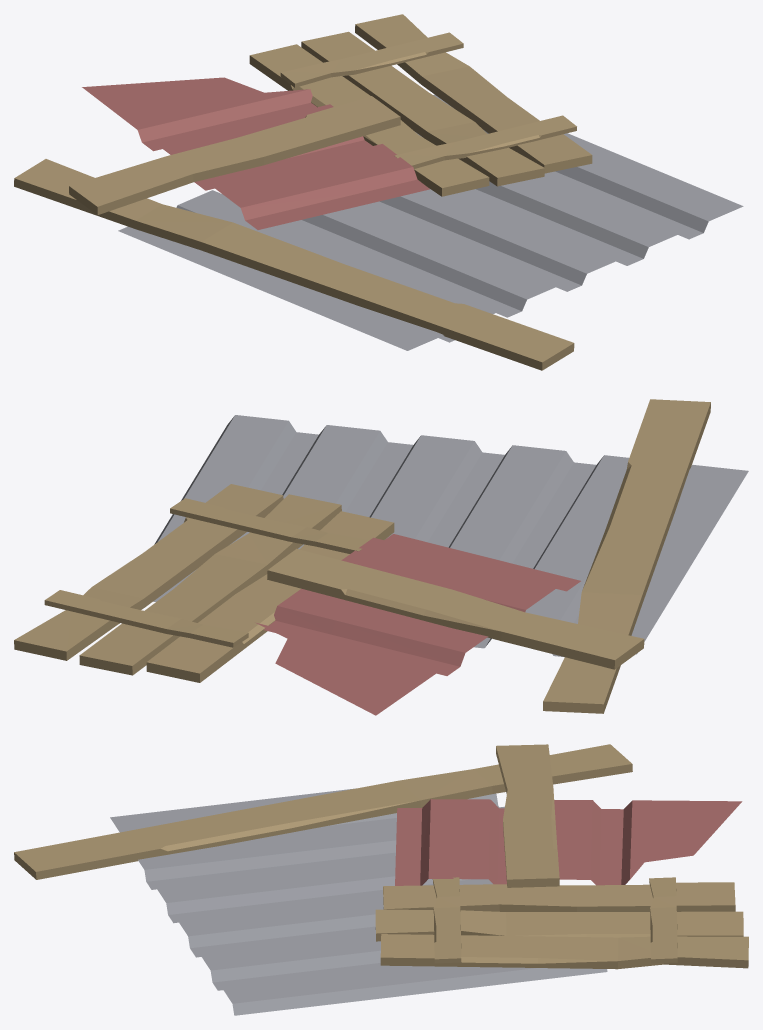
Rendered from p_debris.glb.
The picture shows the model from 3 angles, top to bottom: view 1: azimuth 30°, elevation 25°; view 2: azimuth 150°, elevation 25°; view 3: azimuth 270°, elevation 25°; orthographic projection. The views are drawn at different scales.
Parts seen in each view (by area): view 1: hull; view 2: hull; view 3: hull.
Boxes of the visible parts, x1=… form: hull: x1=14, y1=14, x2=743, y2=370; hull: x1=14, y1=399, x2=748, y2=715; hull: x1=14, y1=744, x2=748, y2=1015.
Bounding box in the file's own units: 2.6 × 0.2008 × 3.23.
